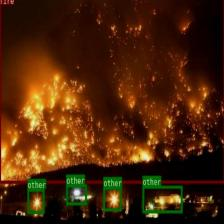fire: (0, 0, 224, 183)
